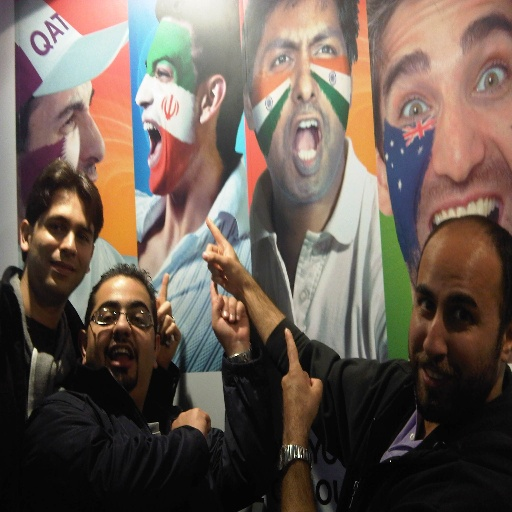hand: (275, 331, 329, 481), (200, 215, 250, 301), (209, 278, 252, 351), (154, 270, 181, 372), (169, 404, 211, 442)
